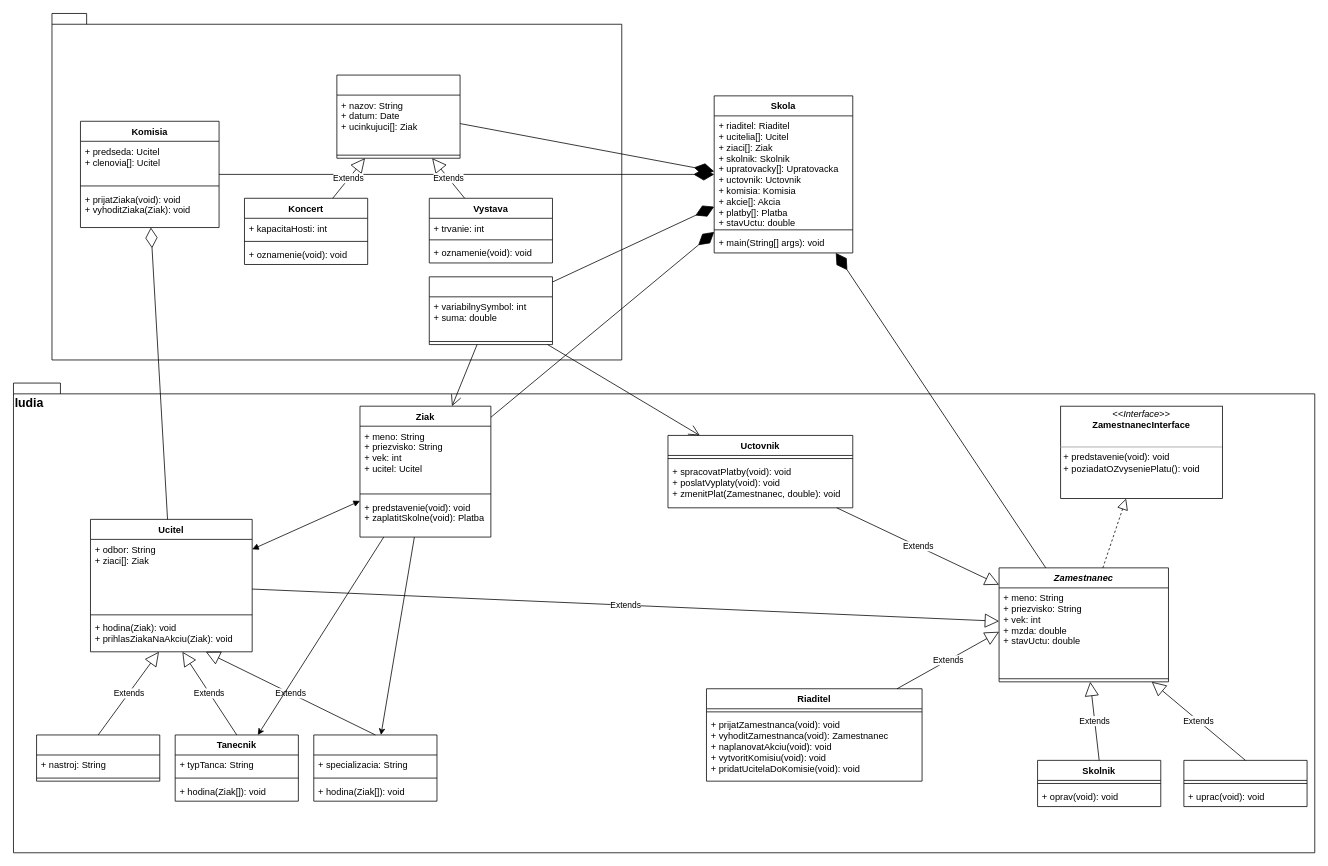
This 1328x866 diagram has some shape labels left out. Here are the shapes that lost their labels. From the top down, the box of each, then its label:
(336, 74, 460, 158): Akcia
(51, 13, 622, 360): ine
(429, 276, 552, 345): Platba
(36, 734, 160, 781): Hudobnik
(313, 734, 437, 801): Vytvarnik
(1183, 760, 1307, 807): Upratovacka
